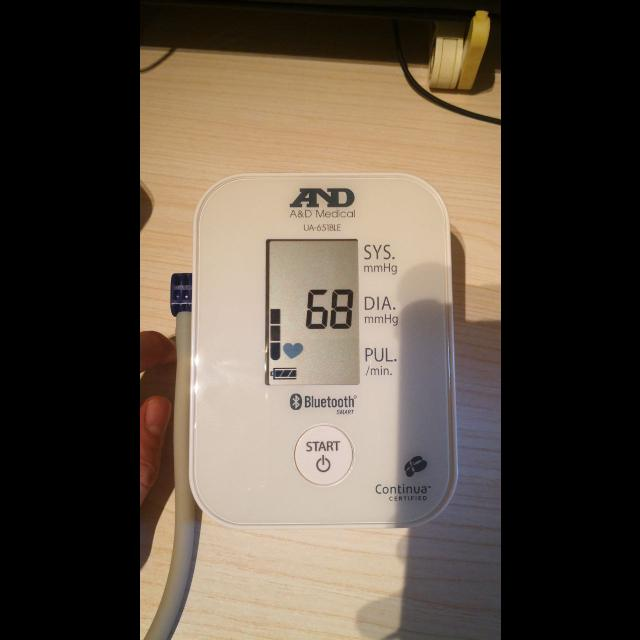Blood-Pressure-Monitor: (188, 172, 457, 530)
